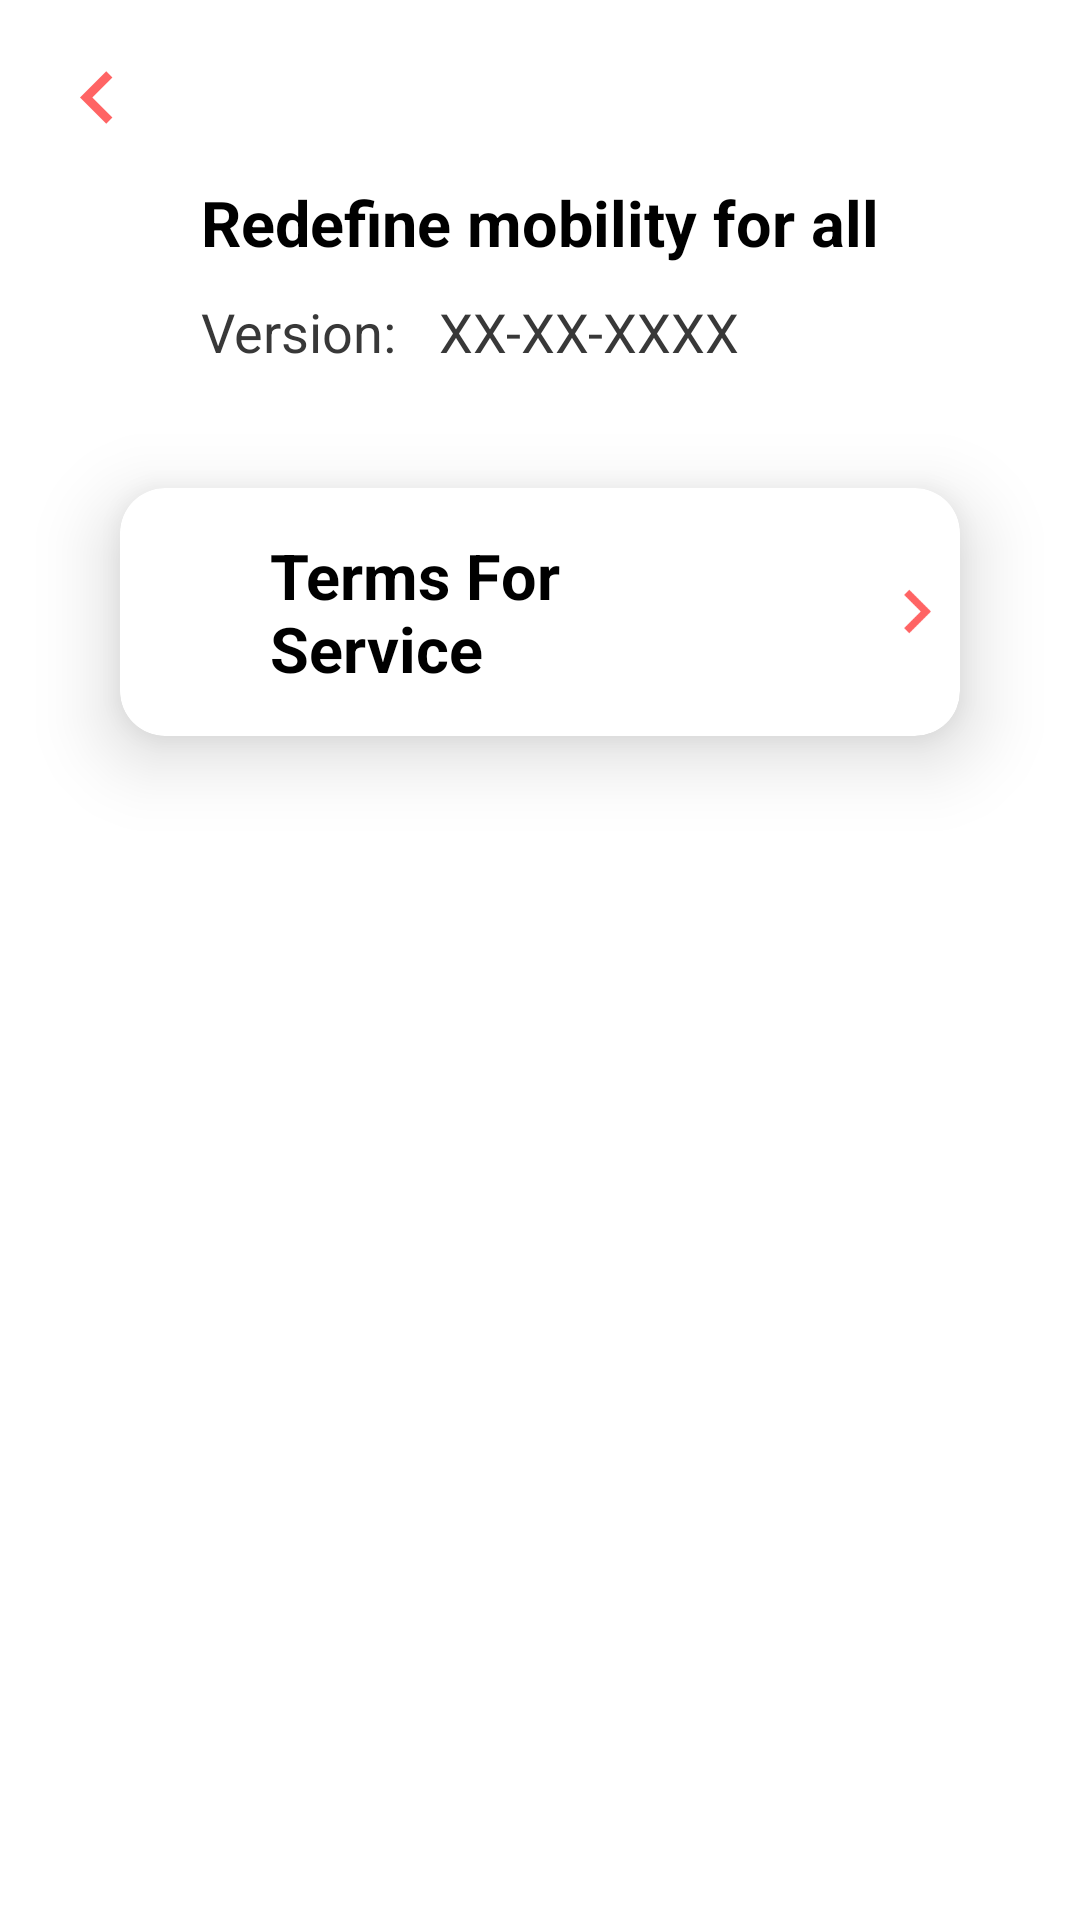

Named icons in this screenshot (1080*1920) and their centers, point (x, y):
arrow left: point (96, 97)
right: point (917, 611)
